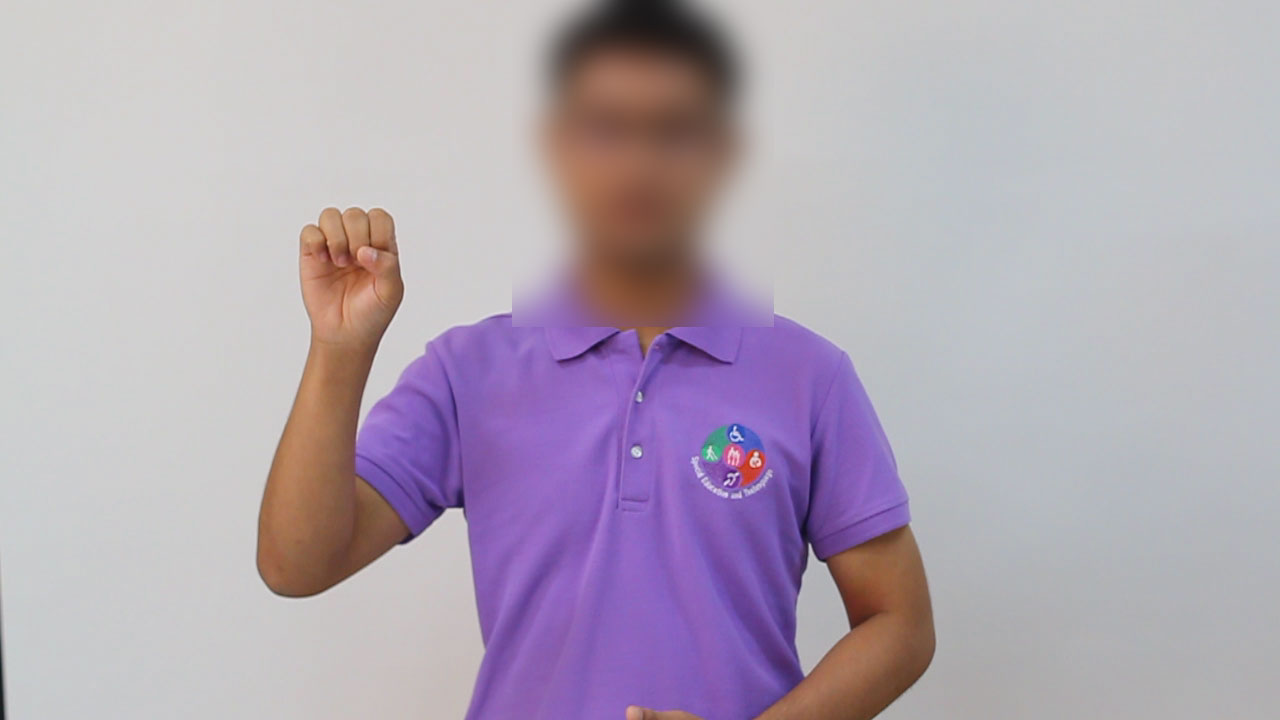sor: (292, 197, 410, 346)
